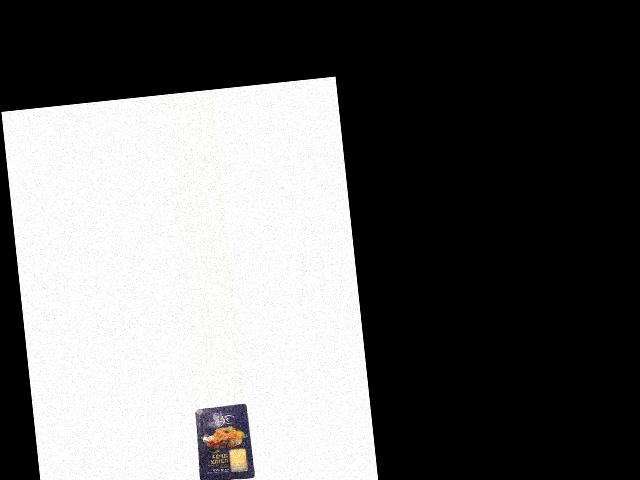cheese: (190, 402, 254, 480)
